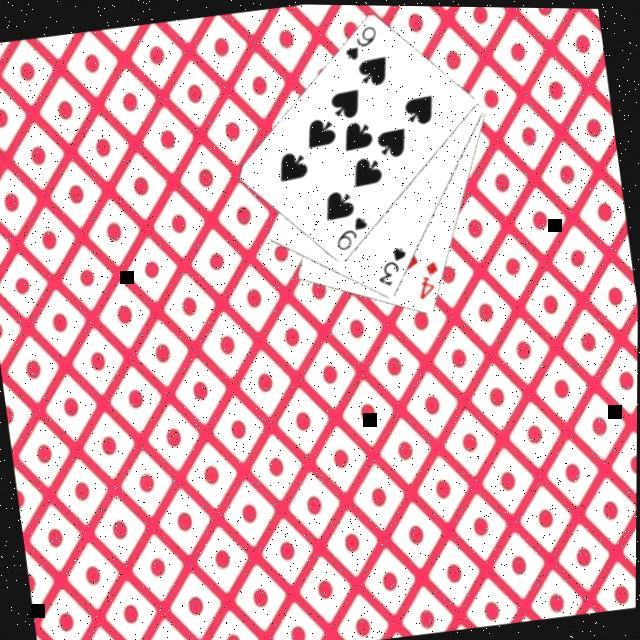3S: (370, 242, 413, 292)
4D: (412, 256, 446, 304)
9S: (329, 212, 374, 256), (339, 21, 382, 65)
